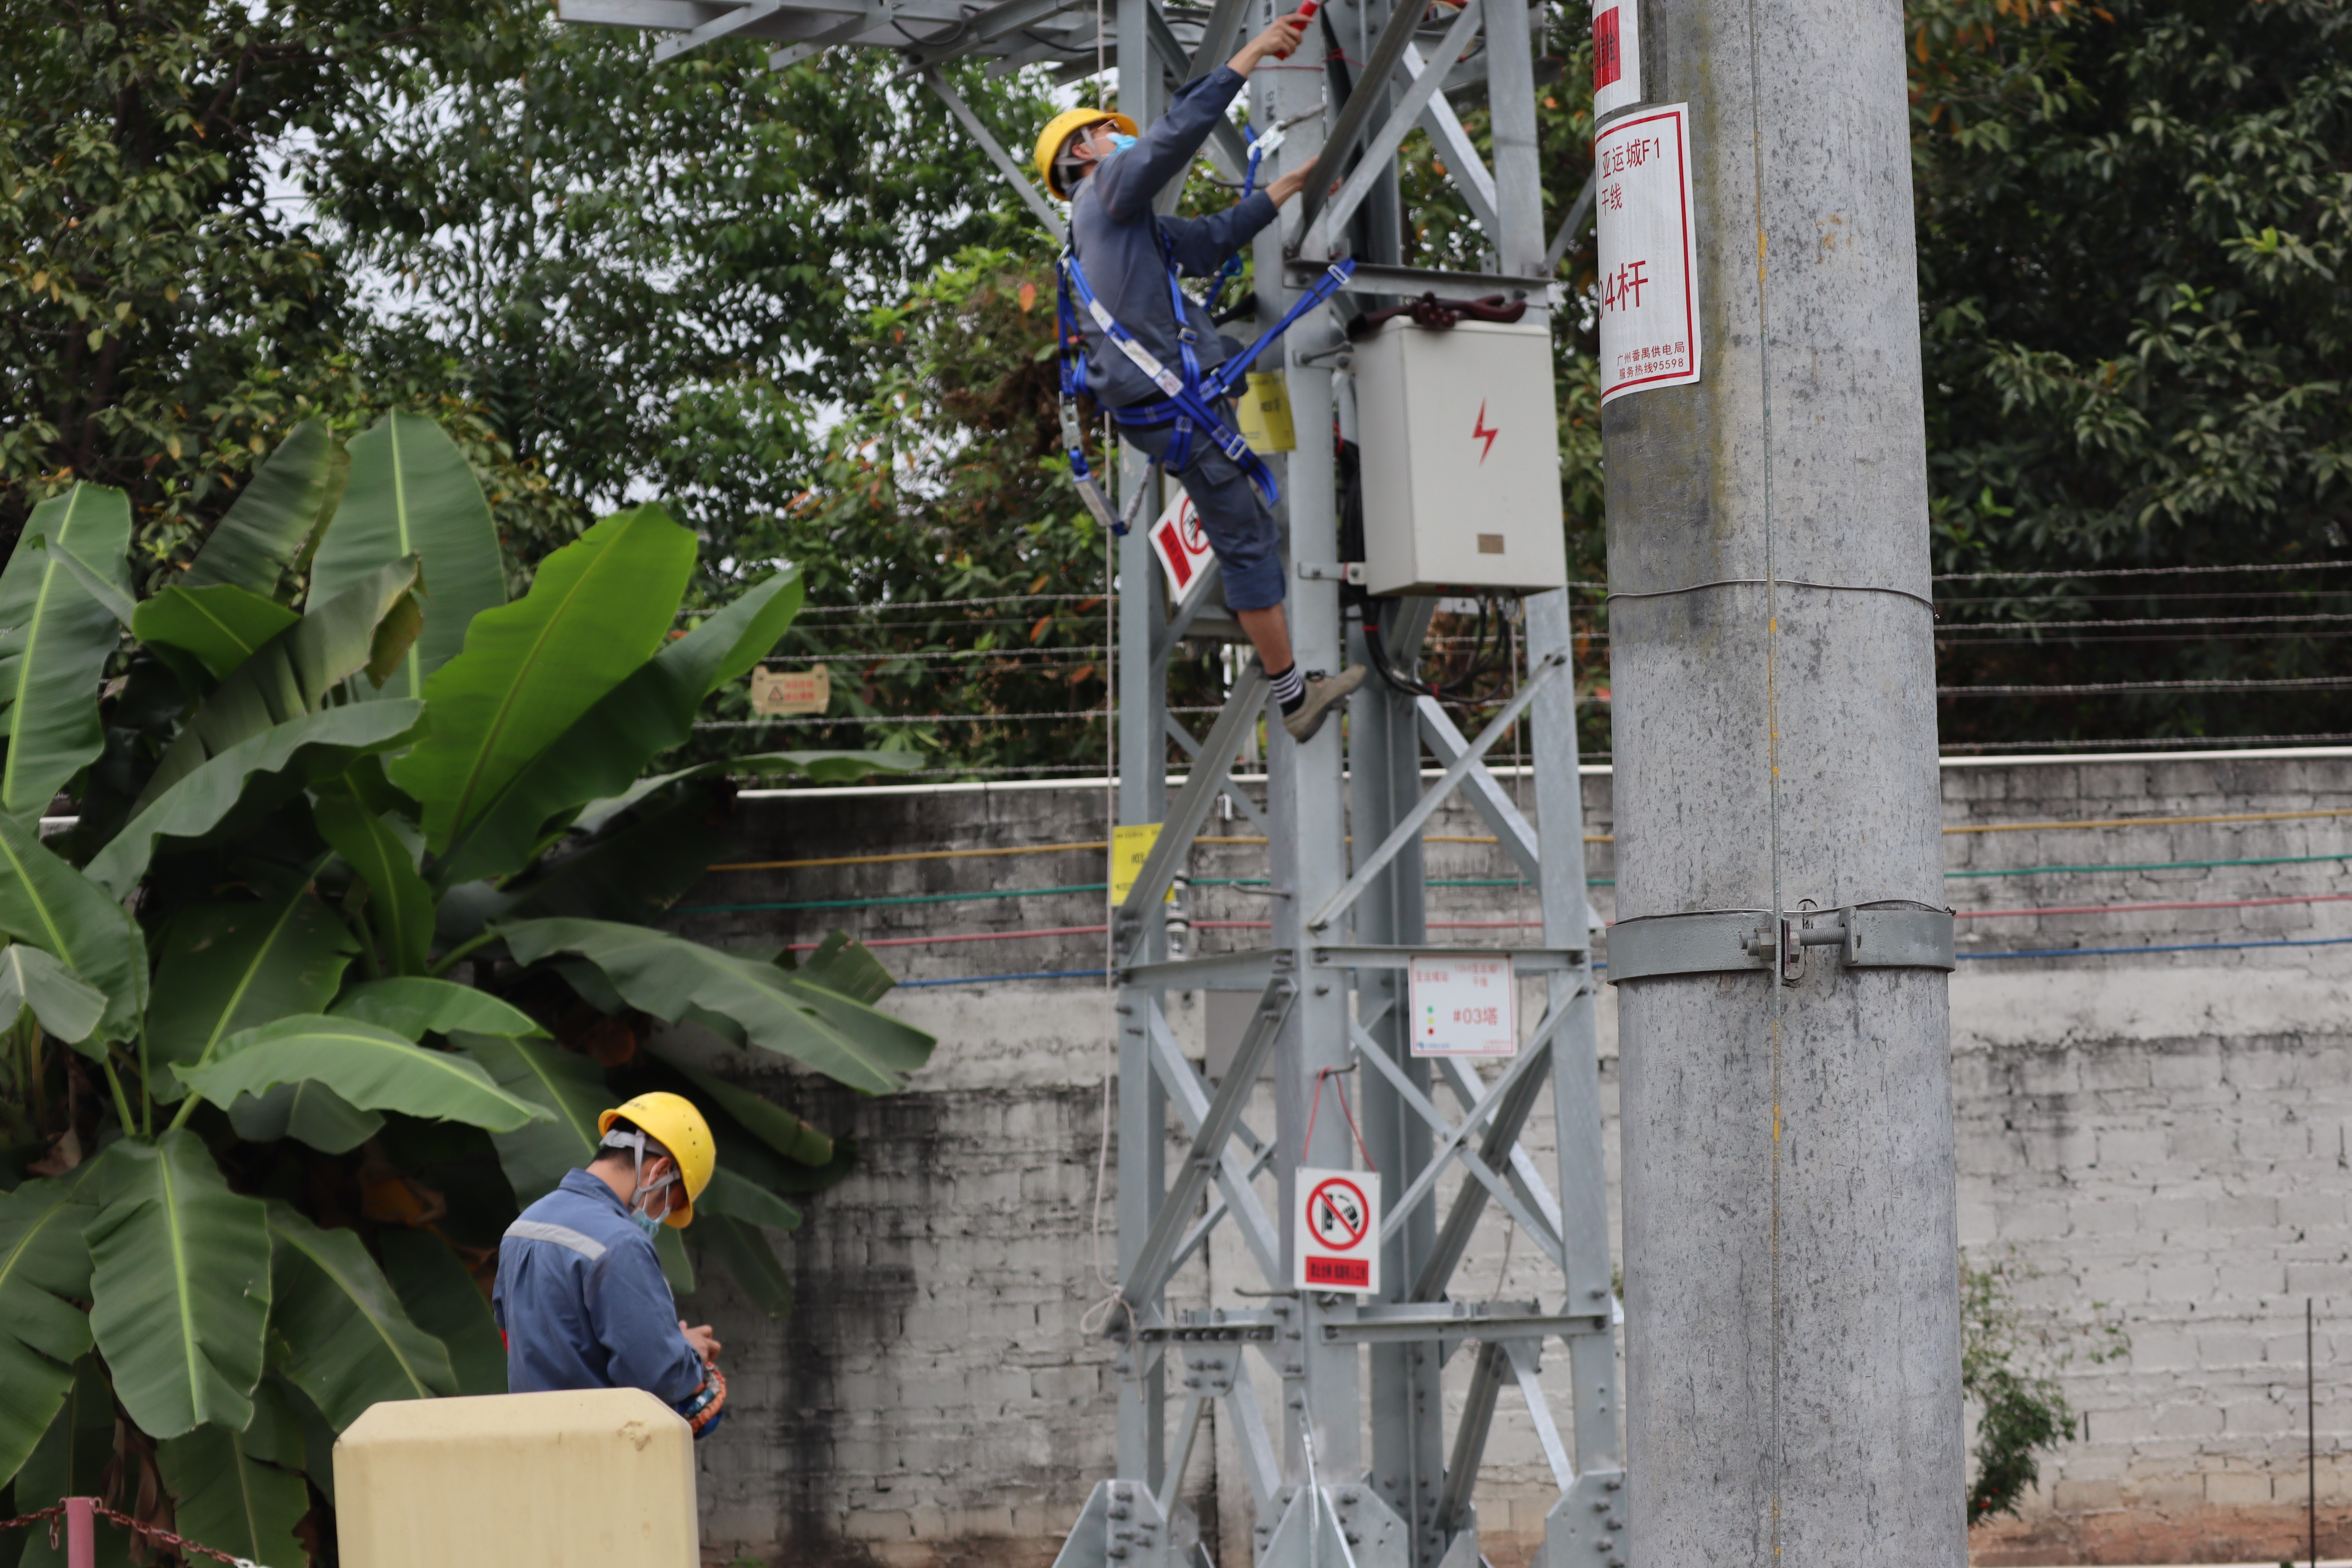downsuit: (1116, 385, 1304, 614)
upsuit: (1062, 72, 1276, 395), (481, 1167, 724, 1405)
wrongbottom: (1223, 569, 1311, 693)
